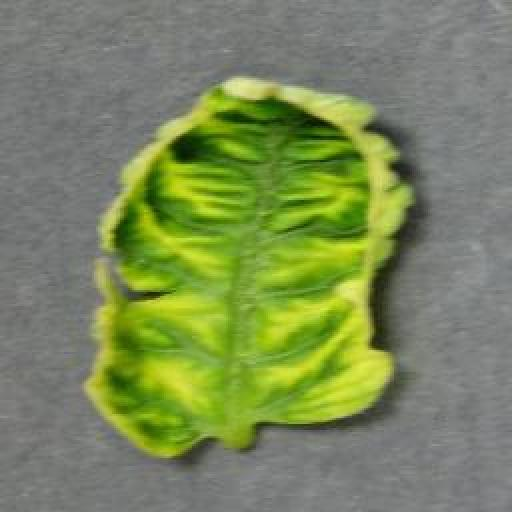Yellow Leaf Curl Virus: (83, 74, 415, 458)
